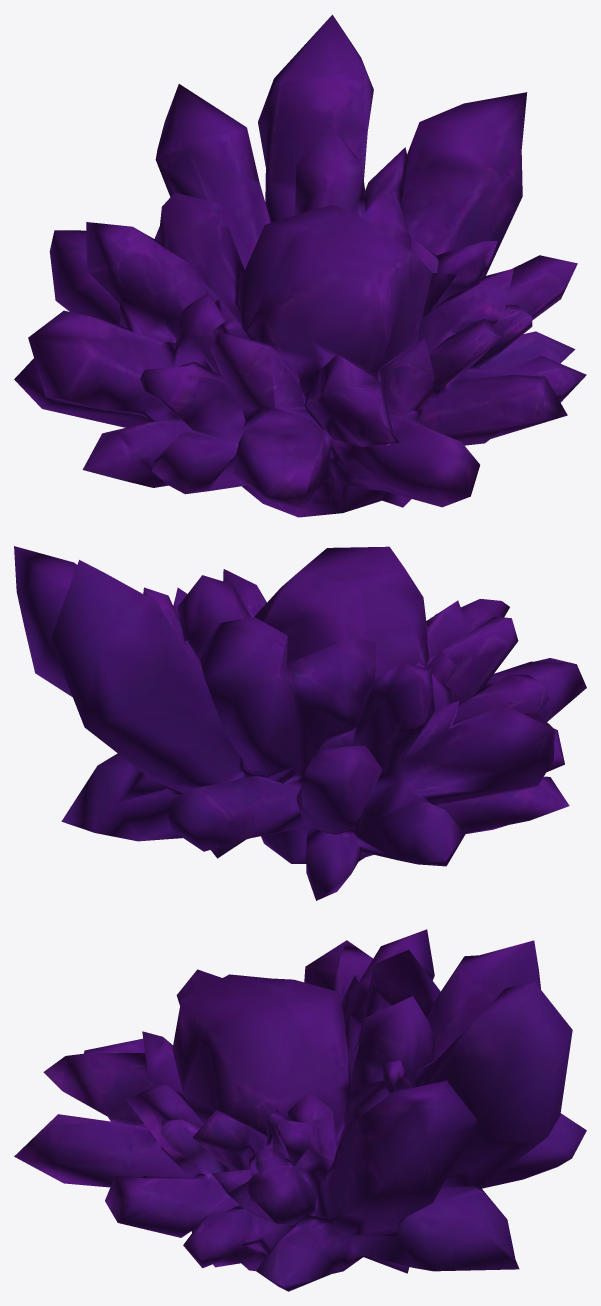
Rendered from purple-crystal.glb.
3 views of the same model, one above another, from view 1: azimuth 30°, elevation 25°; view 2: azimuth 150°, elevation 25°; view 3: azimuth 270°, elevation 25° (orthographic). The views are drawn at different scales.
Bounding box in the file's own units: 1.89 × 1.19 × 1.84.
1 material, 1 textured.
